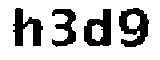3: (50, 6, 81, 48)
9: (116, 6, 151, 48)
d: (85, 7, 114, 48)
h: (7, 3, 46, 53)
